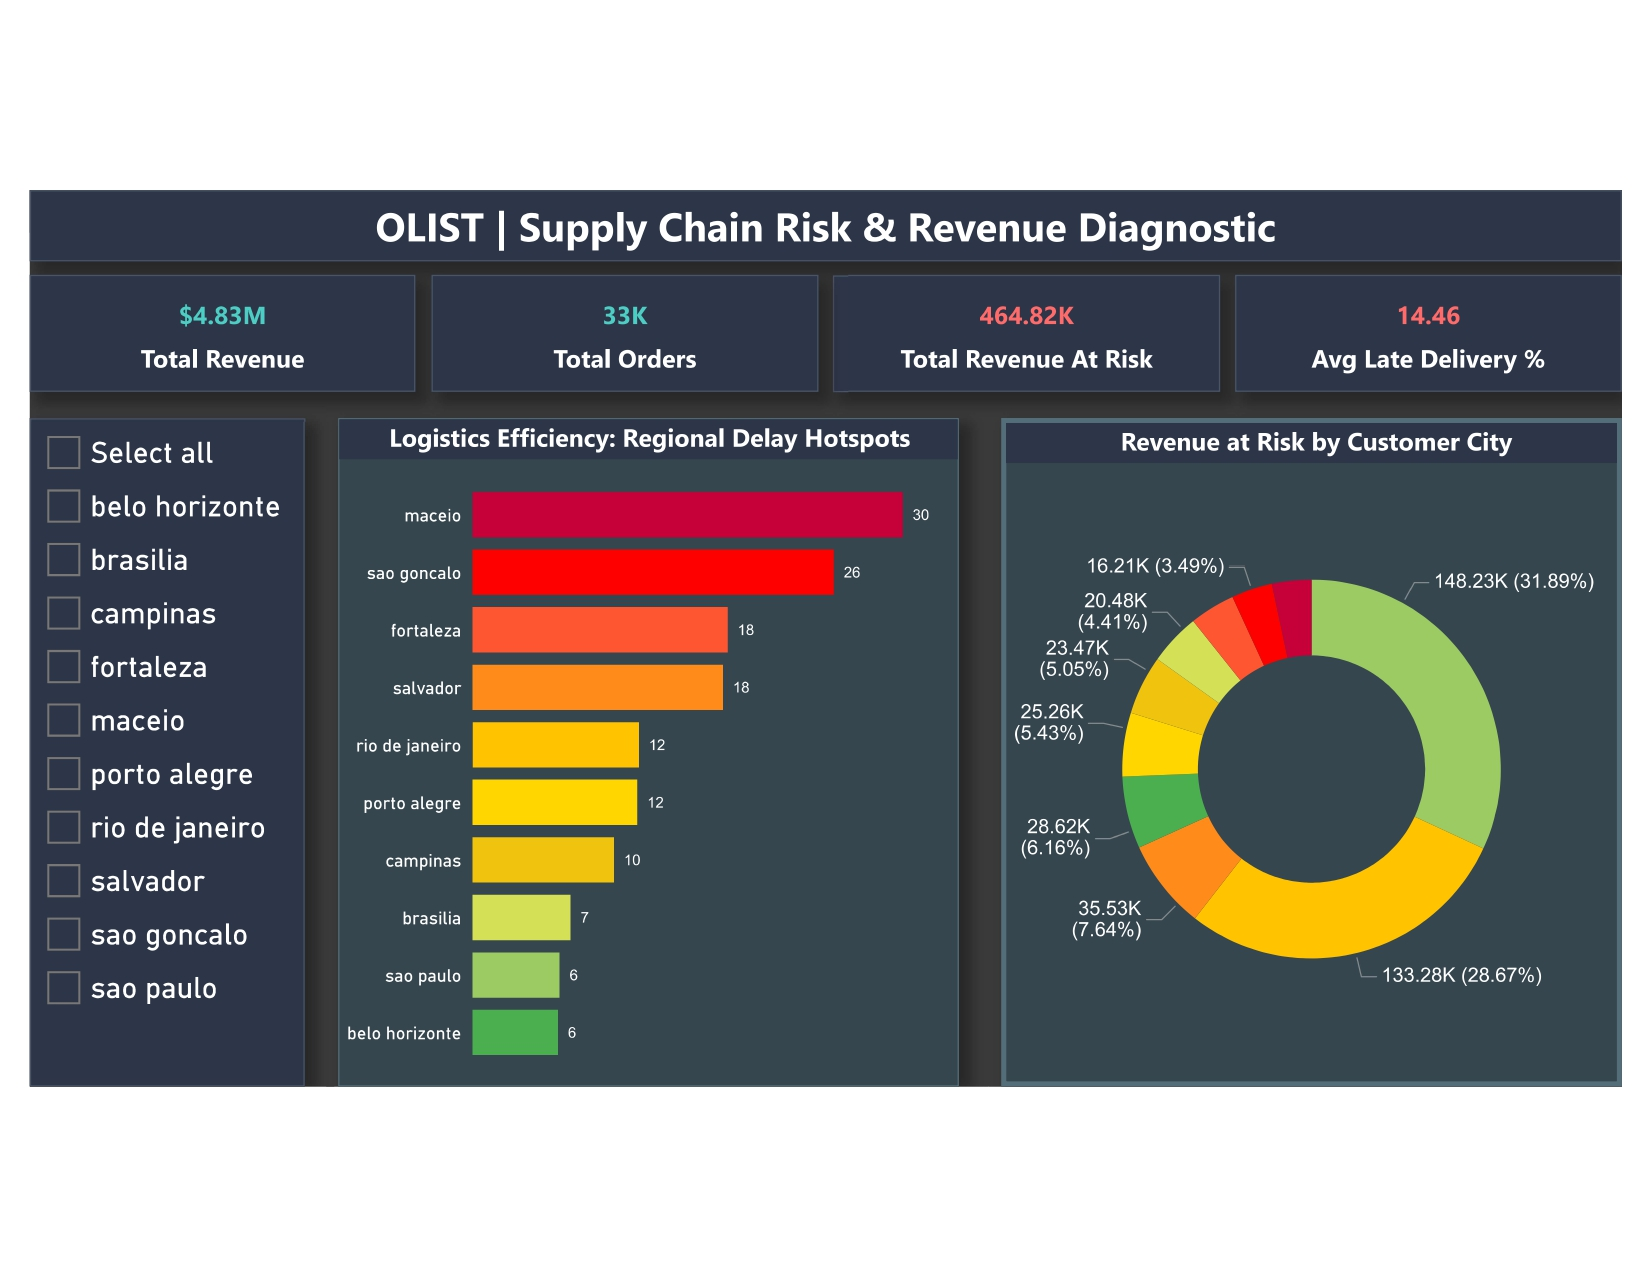

The dashboard page shown, as its layout file describes it:
{"tool":"powerbi","page":{"name":"Geographic Risk Analysis","canvas":[1280,720],"ordinal":0},"visuals":[{"type":"textbox","box":[0,0,1280,56.7],"z":0},{"type":"slicer","fields":{"Values":["Olist_Master_Logistics_Analysis.customer_city"]},"box":[0,182.8,221.1,537.2],"z":1000},{"type":"card","fields":{"Values":["Sum(Olist_Master_Logistics_Analysis.total_revenue)"]},"box":[0,68,310.4,93.5],"z":2000},{"type":"card","fields":{"Values":["Sum(Olist_Master_Logistics_Analysis.revenue_at_risk)"]},"box":[646.3,68,310.4,93.5],"z":3000},{"type":"card","fields":{"Values":["Sum(Olist_Master_Logistics_Analysis.total_orders)"]},"box":[323.1,68,310.4,93.5],"z":4000},{"type":"card","fields":{"Values":["Avg(Olist_Master_Logistics_Analysis.late_delivery_pct)"]},"box":[969.4,68,310.4,93.5],"z":5000},{"type":"donutChart","title":"Revenue at Risk by Customer City","fields":{"Category":["Olist_Master_Logistics_Analysis.customer_city"],"Y":["Sum(Olist_Master_Logistics_Analysis.revenue_at_risk)"]},"box":[780.9,182.8,498.9,537.2],"z":6000},{"type":"clusteredBarChart","title":"Logistics Efficiency: Regional Delay Hotspots","fields":{"Category":["Olist_Master_Logistics_Analysis.customer_city"],"Y":["Sum(Olist_Master_Logistics_Analysis.late_delivery_pct)"]},"box":[248,182.8,498.9,537.2],"z":7000}]}

Visuals, with their boxes on the page's 1280x720 design canvas (x1, y1, x2, y2). These are canvas units, not pixel positions in the 1650x1275 screenshot, which may show the page scaled, cropped or inside an application window:
textbox: x1=0, y1=0, x2=1280, y2=57
slicer - Olist_Master_Logistics_Analysis.customer_city: x1=0, y1=183, x2=221, y2=720
card - Sum(Olist_Master_Logistics_Analysis.total_revenue): x1=0, y1=68, x2=310, y2=162
card - Sum(Olist_Master_Logistics_Analysis.revenue_at_risk): x1=646, y1=68, x2=957, y2=162
card - Sum(Olist_Master_Logistics_Analysis.total_orders): x1=323, y1=68, x2=634, y2=162
card - Avg(Olist_Master_Logistics_Analysis.late_delivery_pct): x1=969, y1=68, x2=1280, y2=162
"Revenue at Risk by Customer City" donutChart: x1=781, y1=183, x2=1280, y2=720
"Logistics Efficiency: Regional Delay Hotspots" clusteredBarChart: x1=248, y1=183, x2=747, y2=720
